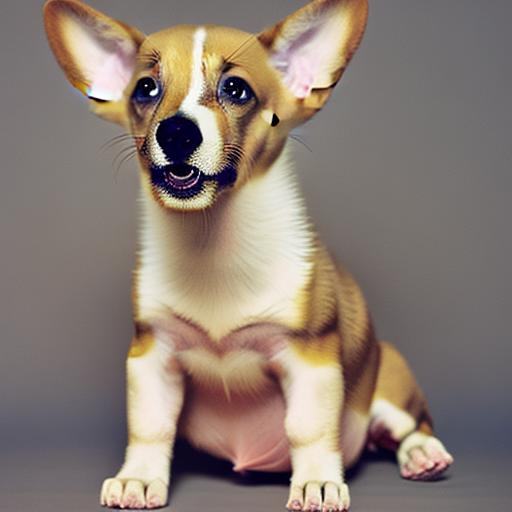eye: (219, 74, 260, 110), (130, 77, 165, 99)
